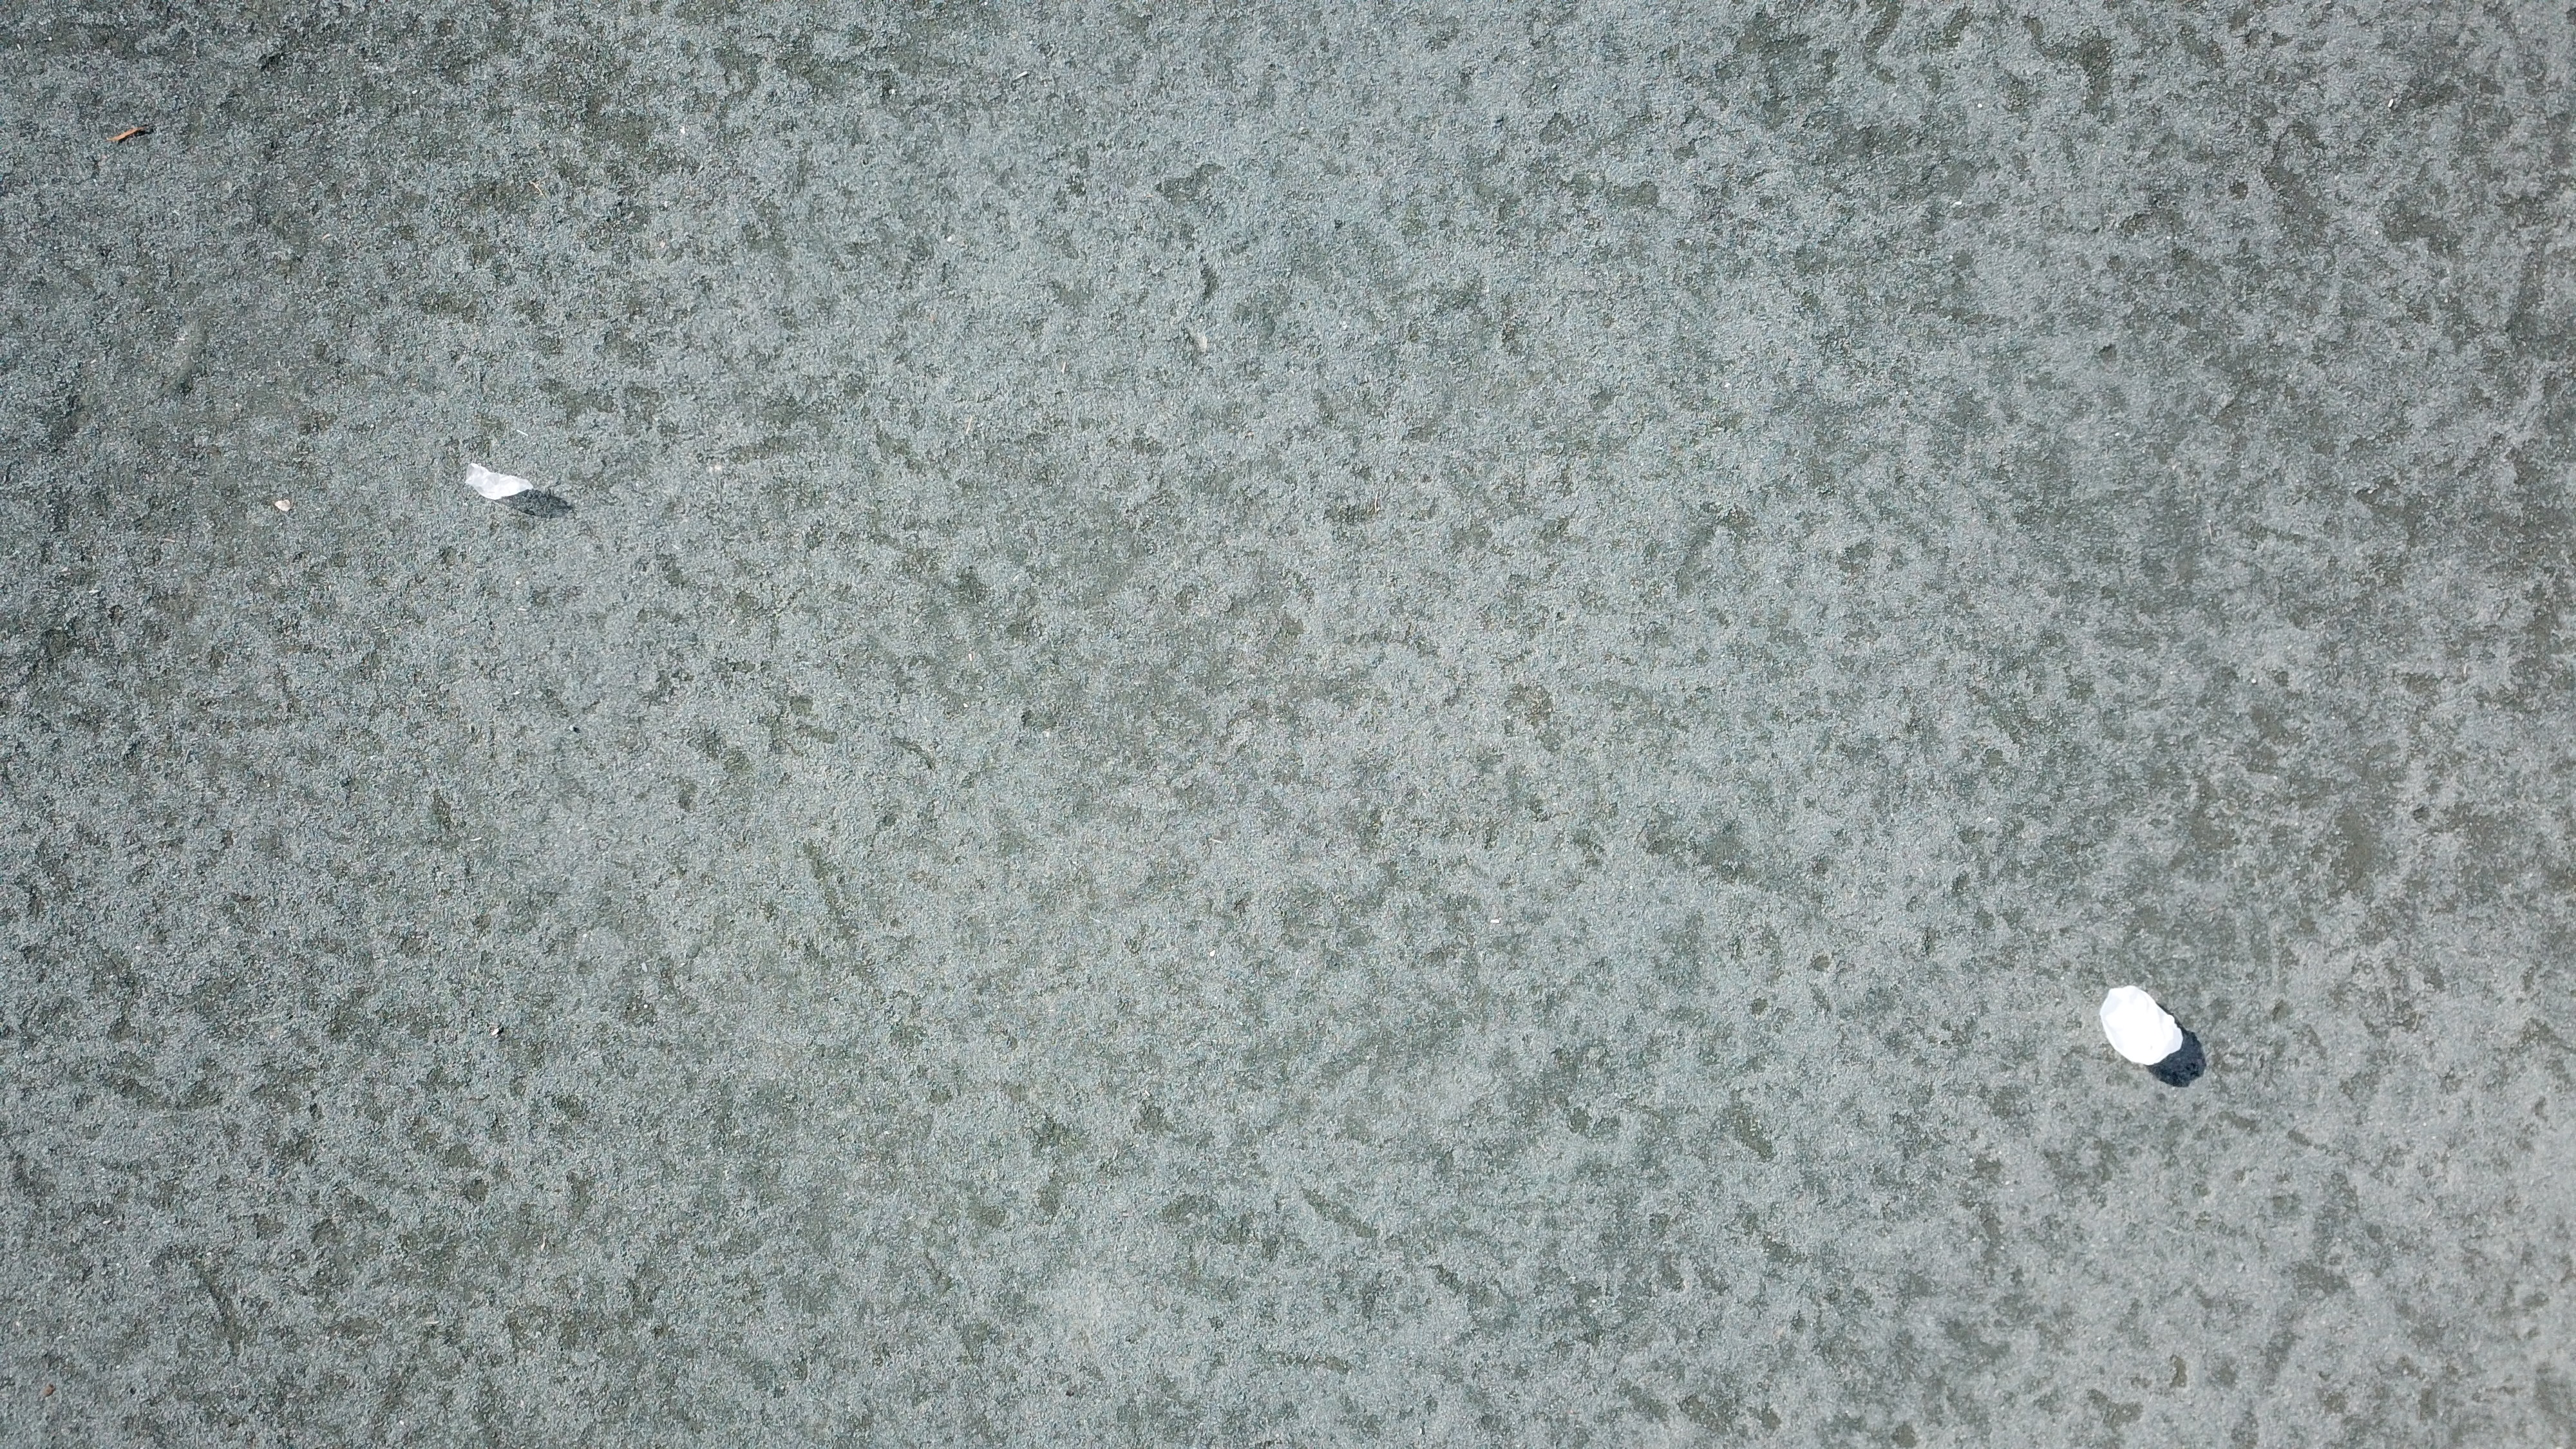Plastic: (2097, 984, 2190, 1065), (465, 456, 541, 504)
